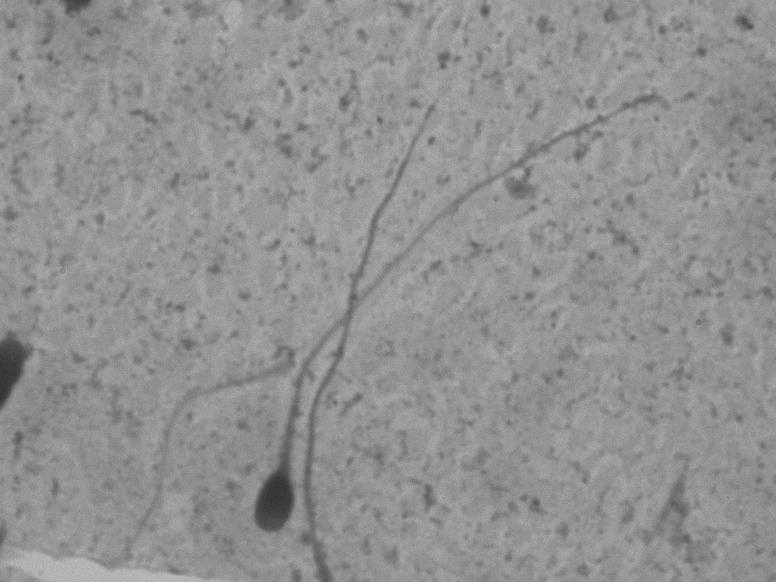Normal: (247, 84, 664, 548)
